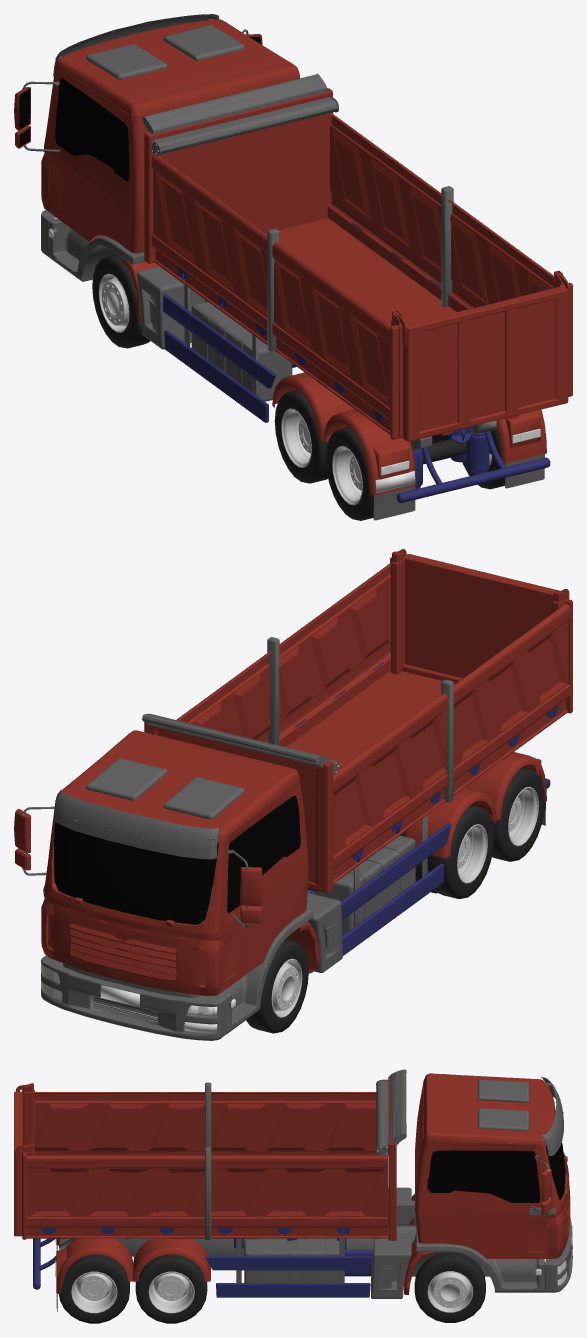
The model's file is truck2.glb.
3 renders of one model, top to bottom at view 1: azimuth 30°, elevation 25°; view 2: azimuth 150°, elevation 25°; view 3: azimuth 270°, elevation 25°, orthographic. The views are drawn at different scales.
Parts seen in each view (by area): view 1: truck_car, truck_middle.001, truck_front_left, truck_back.001, truck_back.002; view 2: truck_car, truck_middle.001, truck_front_left, truck_back.001; view 3: truck_car, truck_front_right, truck_middle, truck_back.
Part boxes in pixels (bbox=[...]): truck_car: bbox=[14, 14, 572, 520]; truck_middle.001: bbox=[274, 389, 328, 483]; truck_front_left: bbox=[92, 254, 150, 348]; truck_back.001: bbox=[325, 427, 415, 520]; truck_back.002: bbox=[423, 438, 465, 464]; truck_car: bbox=[14, 549, 572, 1040]; truck_middle.001: bbox=[415, 805, 494, 899]; truck_front_left: bbox=[246, 939, 308, 1033]; truck_back.001: bbox=[492, 768, 544, 861]; truck_car: bbox=[14, 1069, 572, 1311]; truck_front_right: bbox=[414, 1252, 485, 1322]; truck_middle: bbox=[135, 1254, 207, 1323]; truck_back: bbox=[59, 1254, 129, 1323].
Size of the model in its own units: 4.38 by 4.27 by 11.34.
